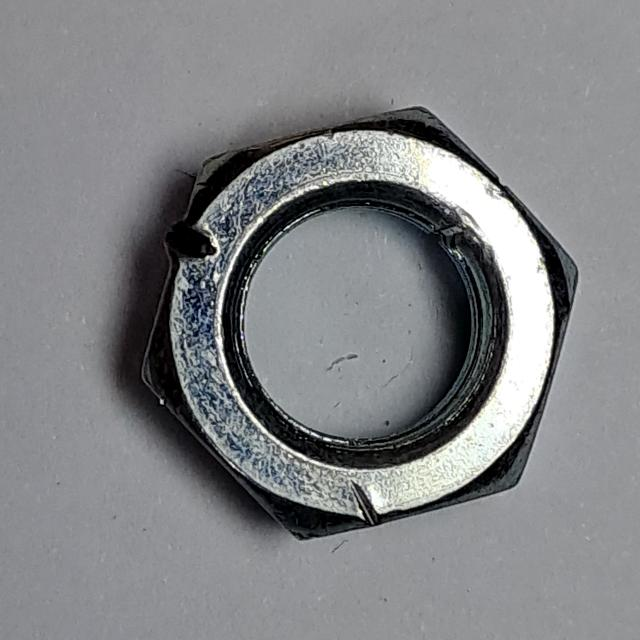Scratches: (128, 94, 600, 561)
